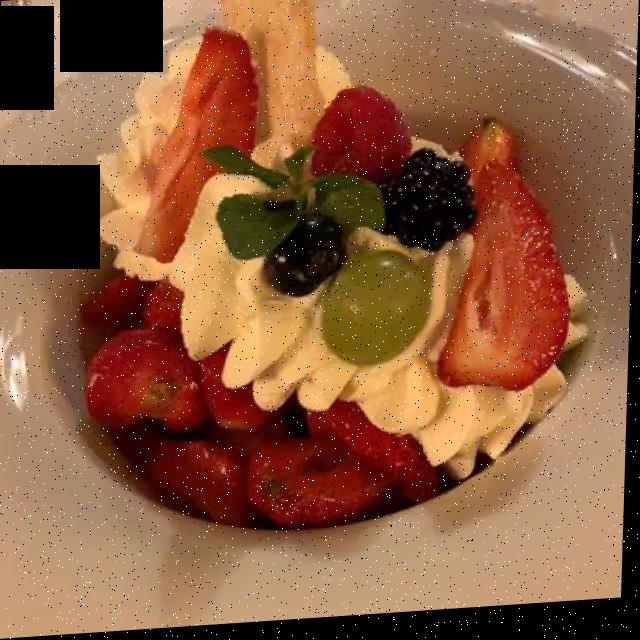berries: (227, 71, 470, 321)
grapes: (332, 241, 437, 385)
strawberries: (68, 266, 467, 528)
thickened-cream-35: (87, 38, 588, 469)
